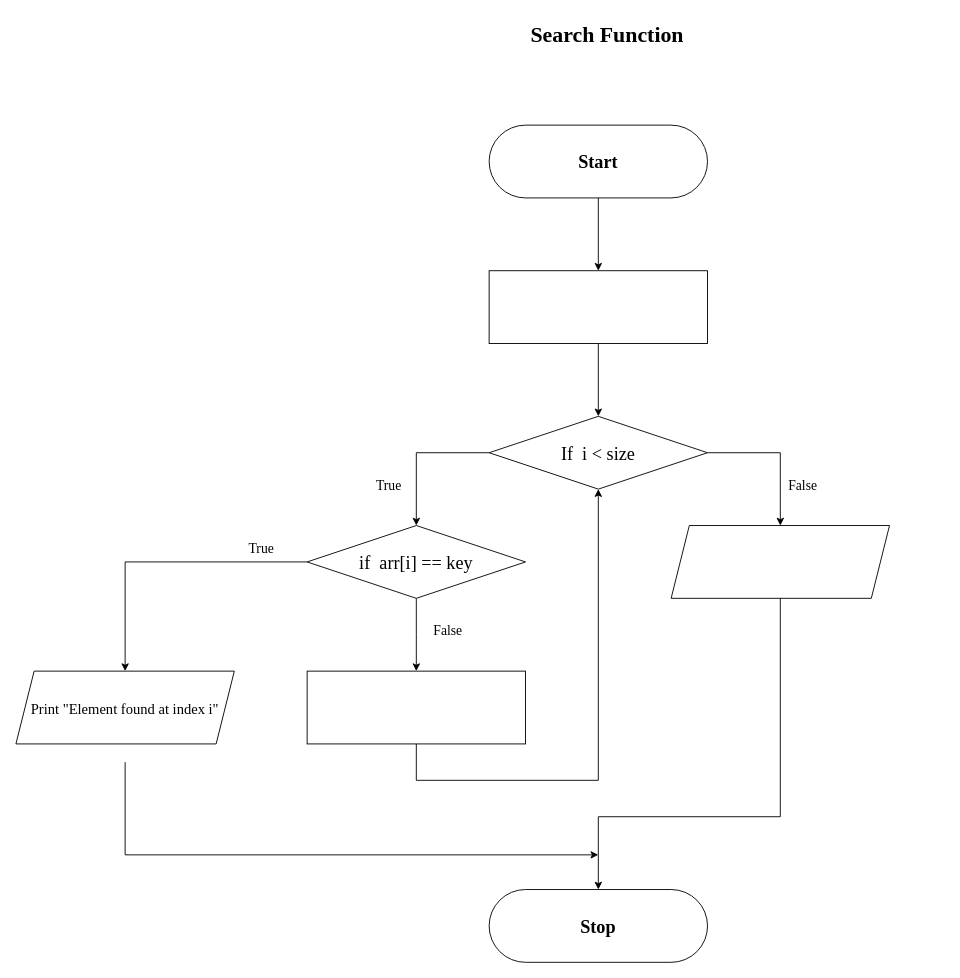
Image size: 960x978. Some labels were removed from this diagram. Here are the shapes that lost their labels. From the top down, the centre of each, then its label:
point 598,307: set i = 1
point 780,561: Print "Element not found"
point 416,707: i = i + 1
